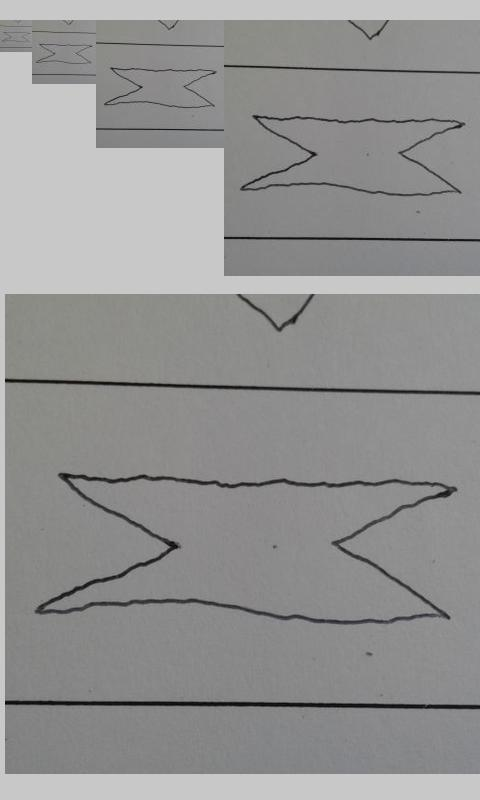edit_text: (34, 472, 456, 625), (239, 114, 466, 198), (103, 67, 217, 109), (35, 43, 93, 65), (2, 31, 30, 43)
